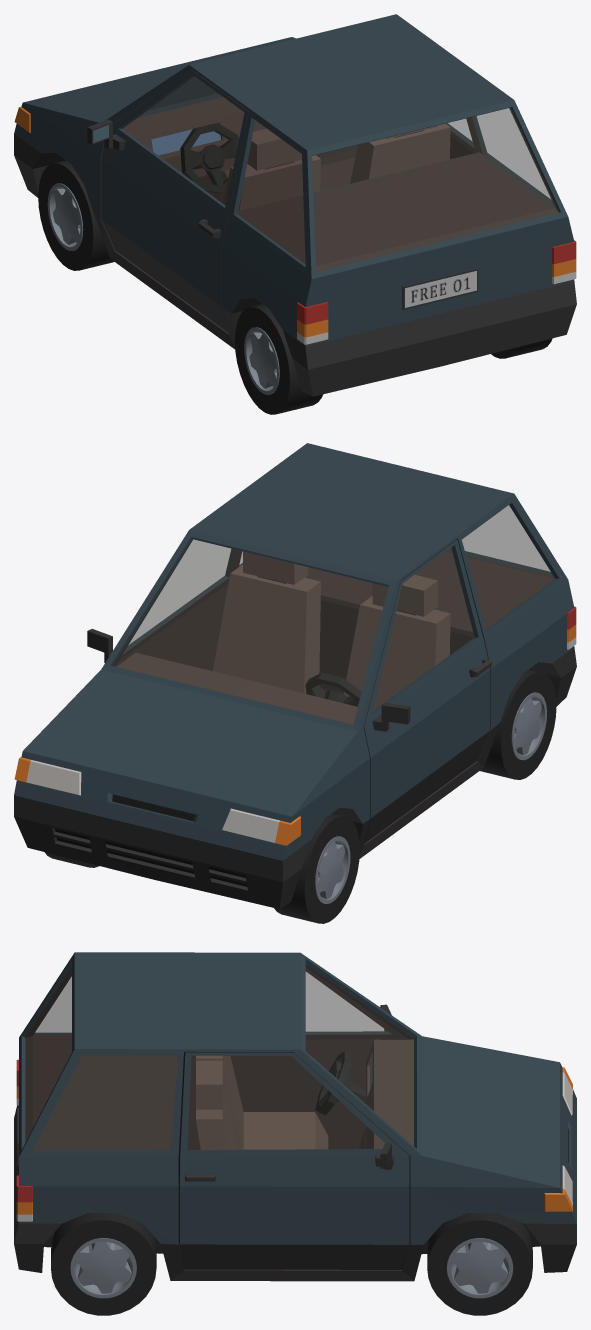
File: car3.glb
3 renders of one model, top to bottom at view 1: azimuth 30°, elevation 25°; view 2: azimuth 150°, elevation 25°; view 3: azimuth 270°, elevation 25°, orthographic. The views are drawn at different scales.
Parts seen in each view (by area): view 1: car body, windows, door l, interior, win door l.001, wheel bl, wheel fl, free number, door r; view 2: car body, windows, interior, door l, win door l.001, door r, wheel fl, wheel bl, win door r.001; view 3: car body, door r, windows, win door r.001, interior, door l, wheel br, wheel fr, win door l.001.
Part boxes in pixels (bbox=[...]): car body: bbox=[14, 14, 576, 396]; windows: bbox=[138, 77, 558, 271]; door l: bbox=[87, 70, 249, 332]; interior: bbox=[122, 97, 450, 210]; win door l.001: bbox=[123, 76, 243, 204]; wheel bl: bbox=[234, 304, 322, 414]; wheel fl: bbox=[38, 160, 114, 270]; free number: bbox=[402, 268, 478, 309]; door r: bbox=[446, 117, 479, 159]; car body: bbox=[14, 443, 576, 908]; windows: bbox=[114, 505, 554, 723]; interior: bbox=[117, 551, 450, 724]; door l: bbox=[363, 539, 491, 843]; win door l.001: bbox=[373, 548, 474, 709]; door r: bbox=[87, 539, 239, 670]; wheel fl: bbox=[274, 813, 359, 923]; wheel bl: bbox=[480, 669, 556, 779]; win door r.001: bbox=[123, 540, 235, 653]; car body: bbox=[14, 952, 576, 1281]; door r: bbox=[178, 1052, 410, 1269]; windows: bbox=[25, 965, 413, 1149]; win door r.001: bbox=[187, 1056, 384, 1149]; interior: bbox=[196, 1039, 413, 1149]; door l: bbox=[187, 967, 408, 1149]; wheel br: bbox=[51, 1213, 156, 1315]; wheel fr: bbox=[427, 1213, 532, 1315]; win door l.001: bbox=[306, 972, 390, 1034].
Bounding box in the file's own units: 2.18 × 1.71 × 3.46.
2 materials, 2 textured.
